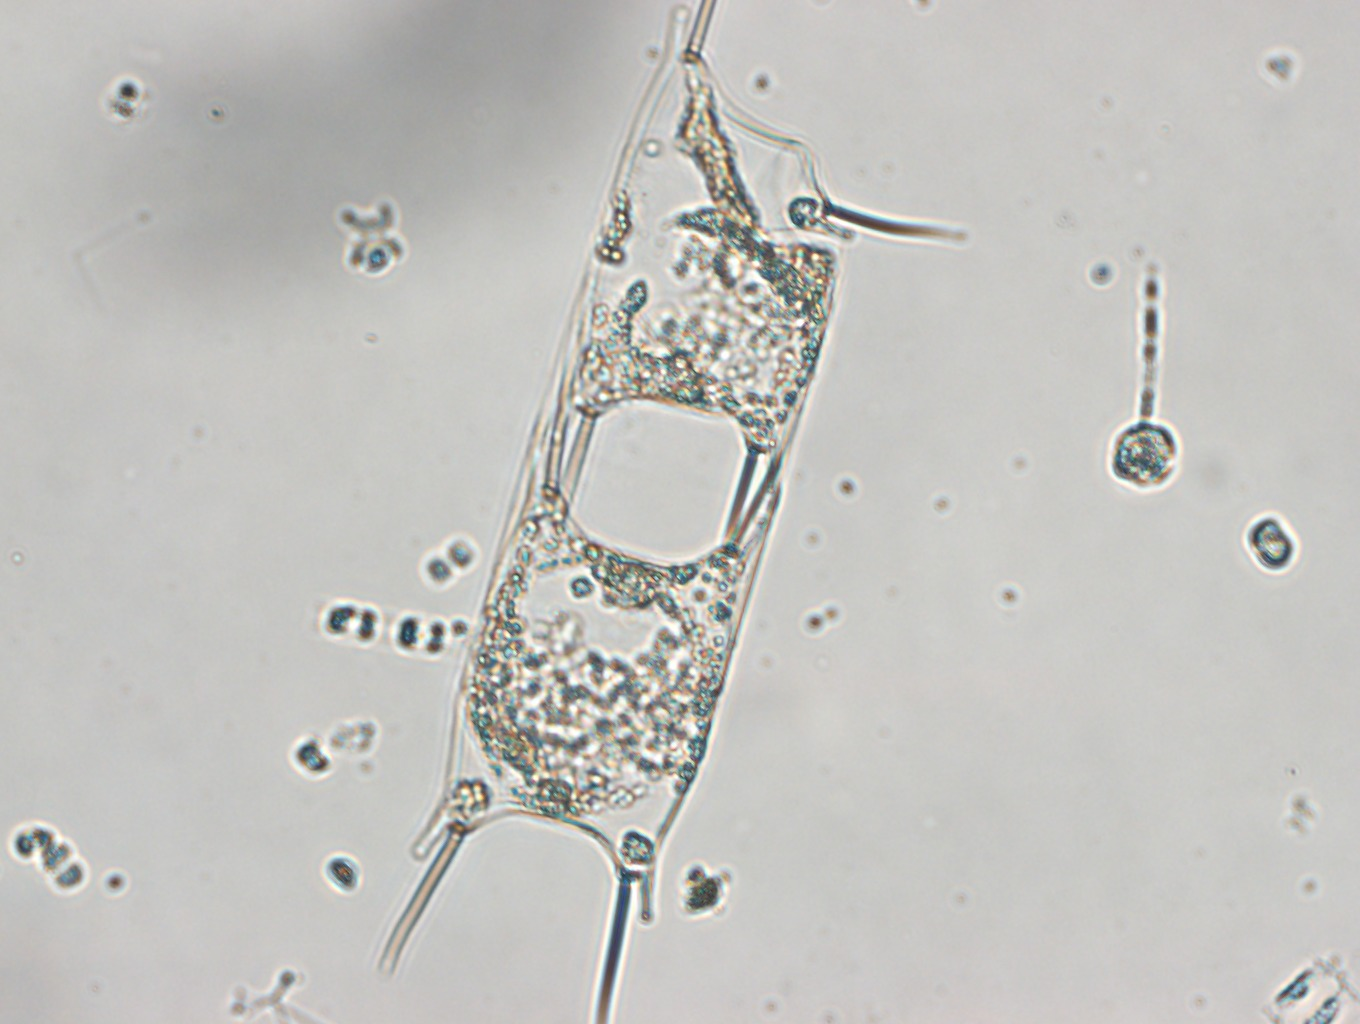biddulphia: (376, 1, 968, 1024)
skeletonema: (324, 597, 450, 660)
